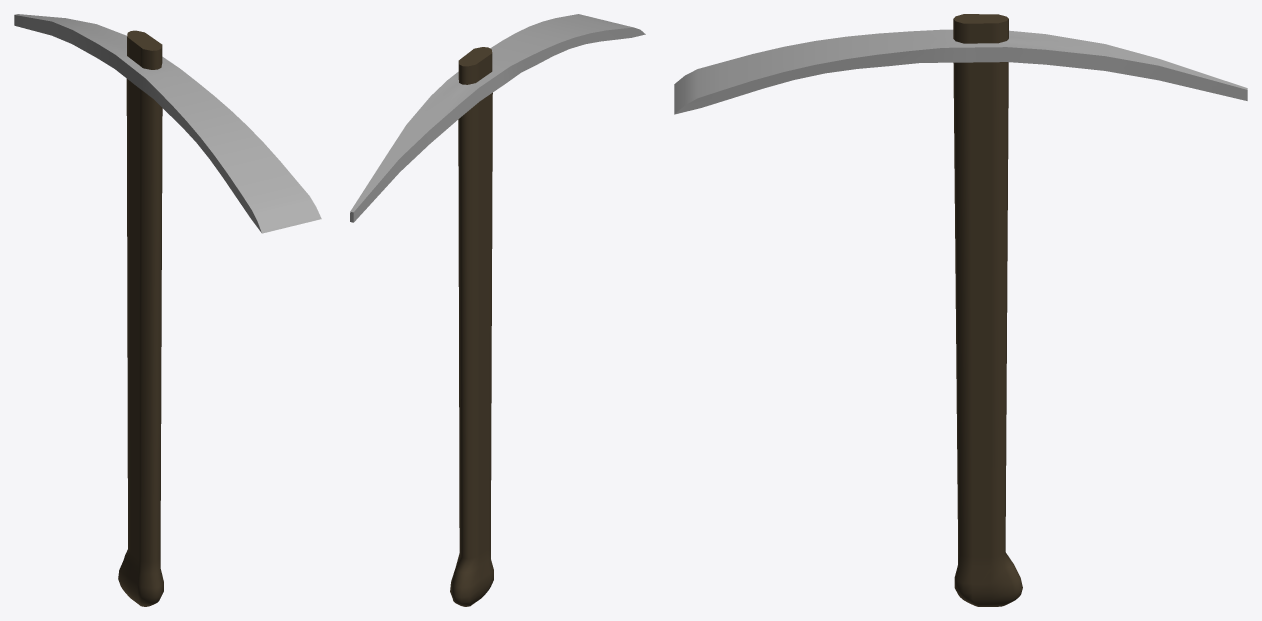
Rendered from Pickaxe.fbx.
3 renders of one model, left to right at view 1: azimuth 30°, elevation 25°; view 2: azimuth 150°, elevation 25°; view 3: azimuth 270°, elevation 25°, orthographic. The views are drawn at different scales.
Parts seen in each view (by area): view 1: loftedSurface1; view 2: loftedSurface1; view 3: loftedSurface1.
Part boxes in pixels (box(x1,y1,x2,y2)): loftedSurface1: box(14, 14, 321, 606); loftedSurface1: box(350, 14, 645, 606); loftedSurface1: box(674, 14, 1247, 606).
Bounding box in the file's own units: 3.49 × 31.5 × 27.96.
